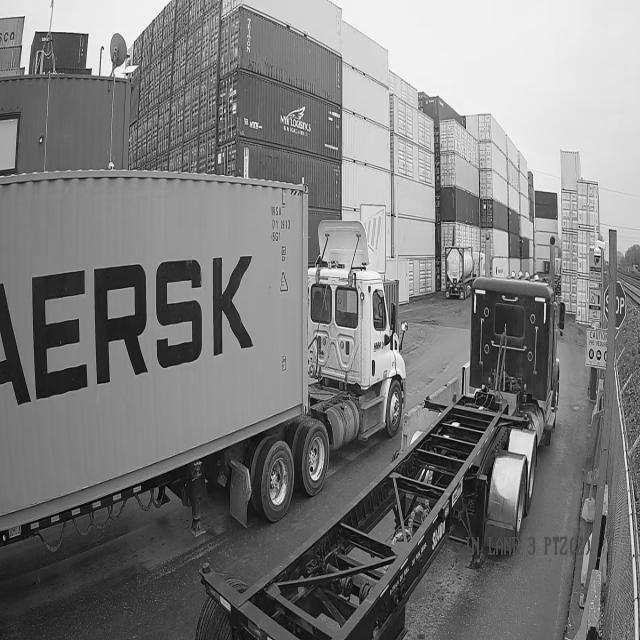container_side_no: (269, 200, 294, 247)
truck_with_container: (0, 170, 408, 545)
truck_without_container: (196, 277, 564, 639)
